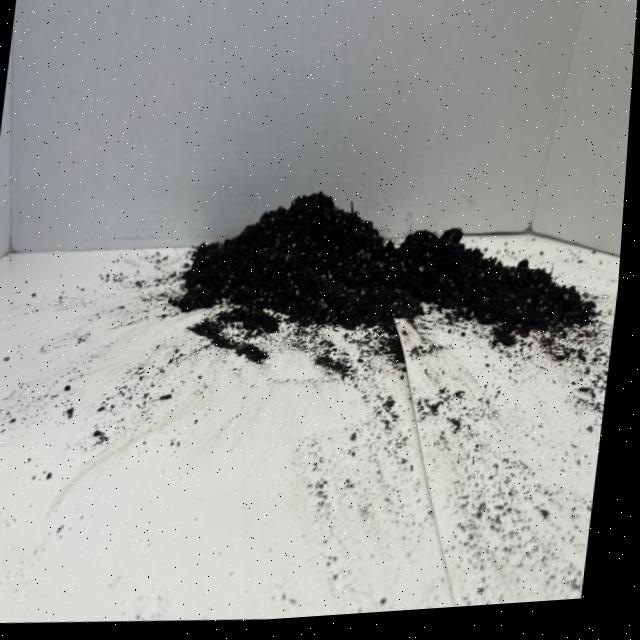soil: (162, 160, 618, 390)
